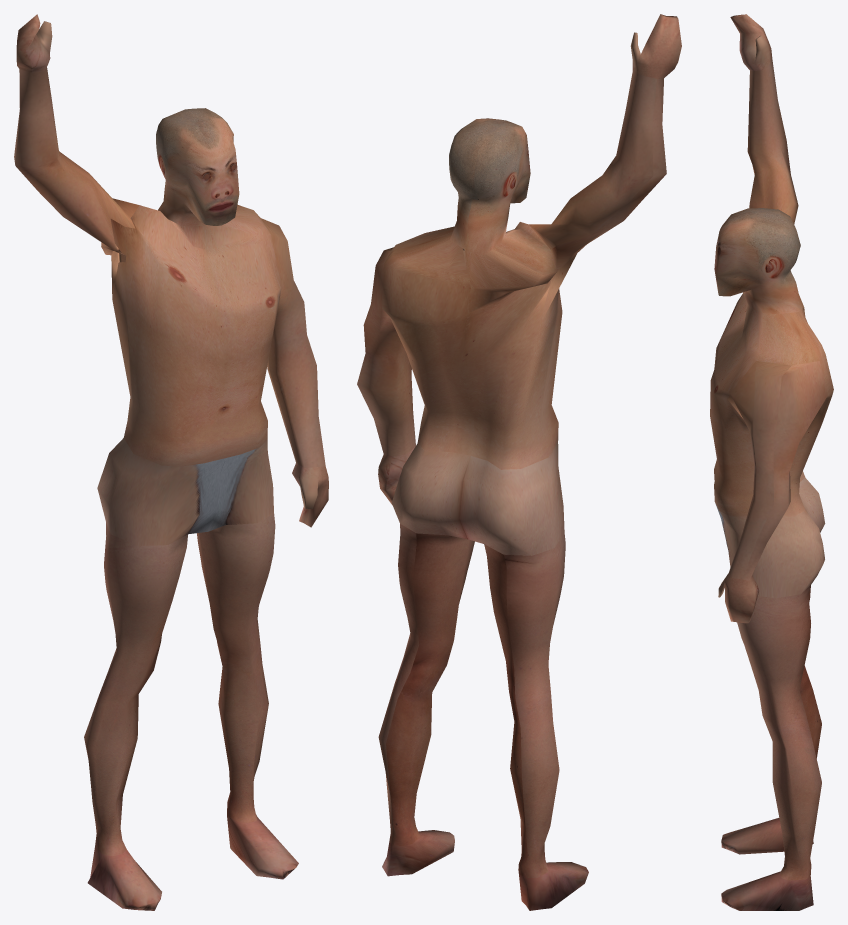
Rendered from Human Body - Dance.fbx.
The picture shows the model from 3 angles, left to right: view 1: azimuth 30°, elevation 25°; view 2: azimuth 150°, elevation 25°; view 3: azimuth 270°, elevation 25°; orthographic projection. The views are drawn at different scales.
Parts seen in each view (by area): view 1: male body; view 2: male body; view 3: male body.
Boxes of the visible parts, x1,y1,x2,y2 form: male body: [14, 14, 328, 910]; male body: [357, 14, 681, 910]; male body: [710, 14, 833, 910].
Bounding box in the file's own units: 59.65 × 169 × 23.99.
